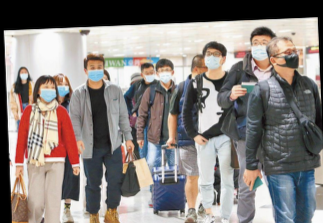with_mask: (250, 37, 271, 61), (203, 48, 223, 70), (282, 46, 299, 69), (37, 82, 56, 102), (86, 64, 105, 82), (54, 78, 69, 97), (158, 65, 172, 84), (142, 68, 155, 83), (17, 69, 29, 80)
